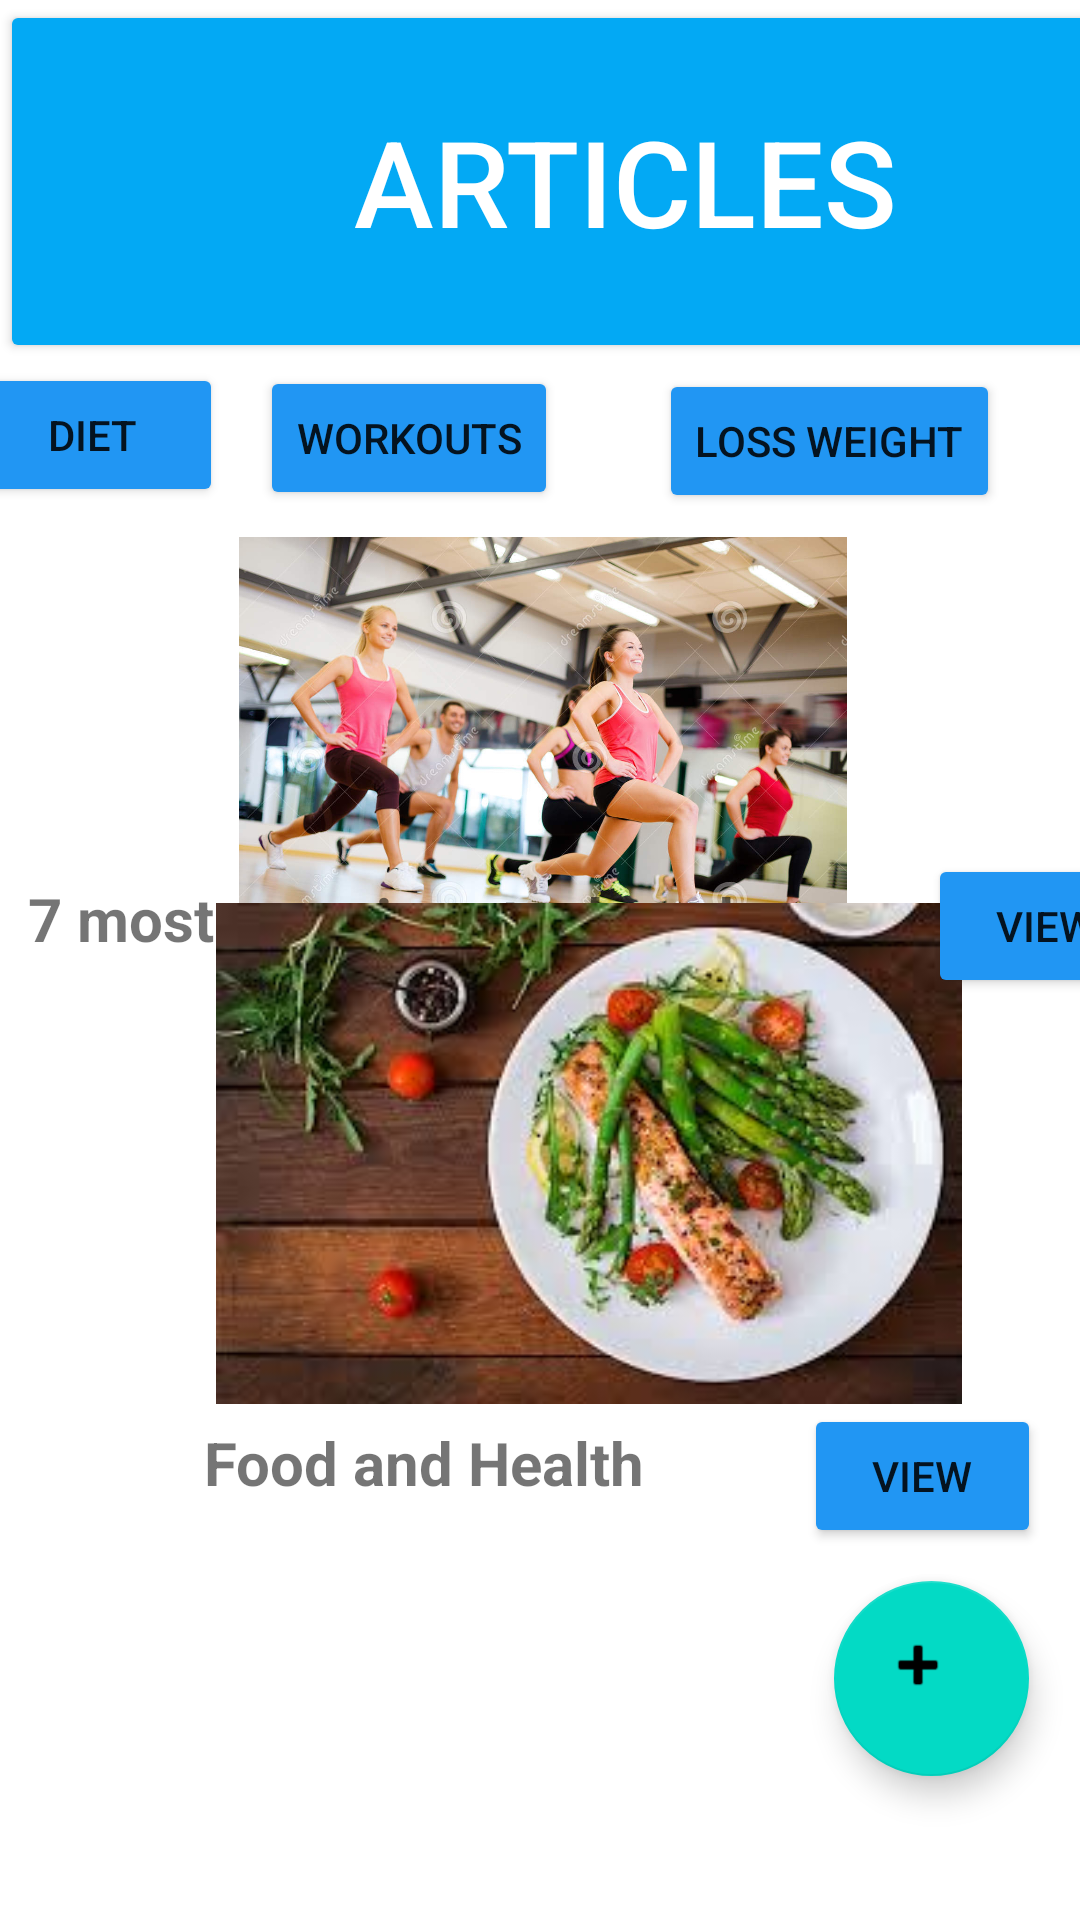

Icons on this 1080*1920 Android screen, each with its box as (x1, y1, x2, y2):
add: (834, 1581, 1029, 1776)
